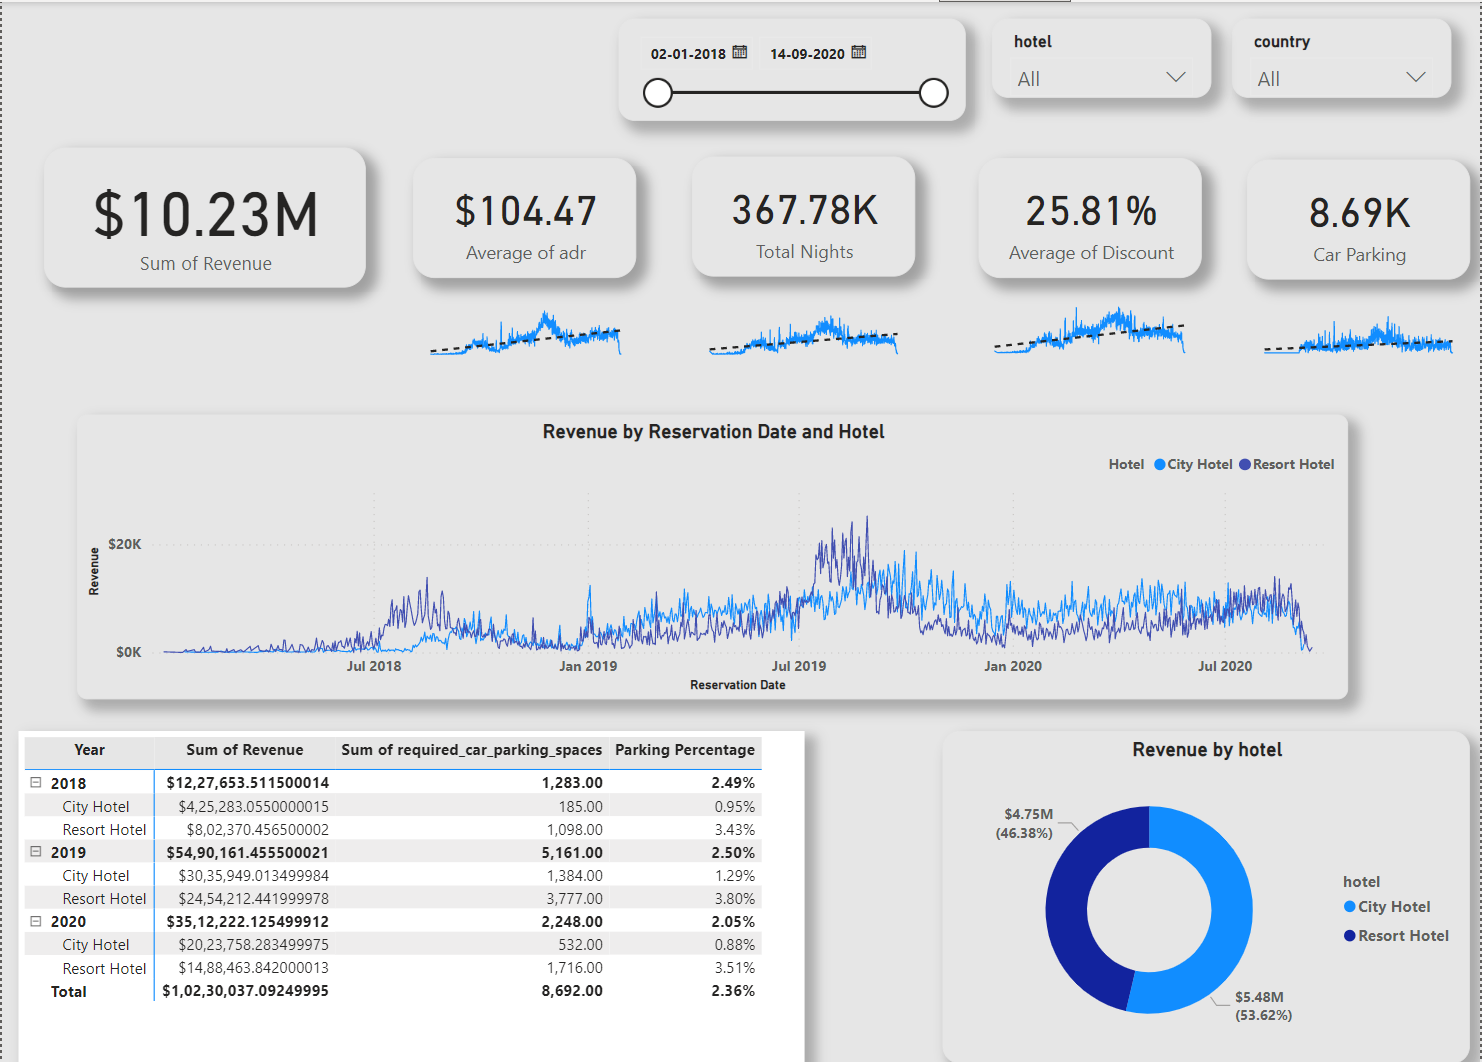

The dashboard page shown, as its layout file describes it:
{"tool":"powerbi","page":{"name":"Hotel Revenue Analysis","canvas":[1280,920],"ordinal":0},"visuals":[{"type":"card","fields":{"Values":["Sum(Query1.Revenue)"]},"box":[36.8,125.7,279,121.1],"z":0},{"type":"card","fields":{"Values":["Avg(Query1.adr)"]},"box":[355.6,134.9,193,104],"z":3000},{"type":"card","fields":{"Values":["Query1.Total Nights"]},"box":[597.8,133.4,193.1,104.2],"z":4000},{"type":"card","fields":{"Values":["Avg(Query1.Discount)"]},"box":[846.2,134.9,193,104],"z":5000},{"type":"lineChart","title":"Revenue by Reservation Date and Hotel","fields":{"Category":["Query1.reservation_status_date"],"Y":["Sum(Query1.Revenue)"],"Series":["Query1.hotel"]},"box":[64.4,357.2,1100.6,246.8],"z":6000},{"type":"slicer","fields":{"Values":["Query1.country"]},"box":[1065.4,13.8,190.1,69],"z":7000},{"type":"slicer","fields":{"Values":["Query1.hotel"]},"box":[856.9,13.8,190,69],"z":8000},{"type":"lineChart","fields":{"Category":["Query1.reservation_status_date"],"Y":["Sum(Query1.adr)"]},"box":[355.6,248.3,194.7,62.9],"z":9000},{"type":"lineChart","fields":{"Category":["Query1.reservation_status_date"],"Y":["Query1.Total Nights"]},"box":[597.8,248.3,193.1,62.9],"z":10000},{"type":"lineChart","fields":{"Category":["Query1.reservation_status_date"],"Y":["Sum(Query1.Discount)"]},"box":[844.6,246.8,194.7,62.9],"z":11000},{"type":"card","fields":{"Values":["Sum(Query1.required_car_parking_spaces)"]},"box":[1077.7,136.4,193,104],"z":12000},{"type":"lineChart","fields":{"Category":["Query1.reservation_status_date"],"Y":["Sum(Query1.required_car_parking_spaces)"]},"box":[1077.7,246.8,193.1,62.9],"z":13000},{"type":"donutChart","title":"Revenue by hotel","fields":{"Category":["Query1.hotel"],"Y":["Sum(Query1.Revenue)"]},"box":[814,631.6,456.8,288.2],"z":14000},{"type":"pivotTable","fields":{"Rows":["Query1.reservation_status_date.Variation.Date Hierarchy.Year","Query1.hotel"],"Values":["Sum(Query1.Revenue)","Sum(Query1.required_car_parking_spaces)","Query1.Parking Percentage"]},"box":[13.8,631.6,680.6,288.2],"z":15000},{"type":"slicer","fields":{"Values":["Query1.reservation_status_date"]},"box":[533.5,13.8,300.5,88.9],"z":16000}]}

Visuals, with their boxes in screenshot pixels (x1, y1, x2, y2), scaled from the page's 1280x920 canvas onto the 1482x1062 screenshot:
card - Sum(Query1.Revenue): x1=43 y1=145 x2=366 y2=285
card - Avg(Query1.adr): x1=412 y1=156 x2=635 y2=276
card - Query1.Total Nights: x1=692 y1=154 x2=916 y2=274
card - Avg(Query1.Discount): x1=980 y1=156 x2=1203 y2=276
"Revenue by Reservation Date and Hotel" lineChart: x1=75 y1=412 x2=1349 y2=697
slicer - Query1.country: x1=1234 y1=16 x2=1454 y2=96
slicer - Query1.hotel: x1=992 y1=16 x2=1212 y2=96
lineChart - Query1.reservation_status_date x Sum(Query1.adr): x1=412 y1=287 x2=637 y2=359
lineChart - Query1.reservation_status_date x Query1.Total Nights: x1=692 y1=287 x2=916 y2=359
lineChart - Query1.reservation_status_date x Sum(Query1.Discount): x1=978 y1=285 x2=1203 y2=358
card - Sum(Query1.required_car_parking_spaces): x1=1248 y1=157 x2=1471 y2=278
lineChart - Query1.reservation_status_date x Sum(Query1.required_car_parking_spaces): x1=1248 y1=285 x2=1471 y2=358
"Revenue by hotel" donutChart: x1=942 y1=729 x2=1471 y2=1061
pivotTable - Query1.reservation_status_date.Variation.Date Hierarchy.Year x Query1.hotel: x1=16 y1=729 x2=804 y2=1061
slicer - Query1.reservation_status_date: x1=618 y1=16 x2=966 y2=119
